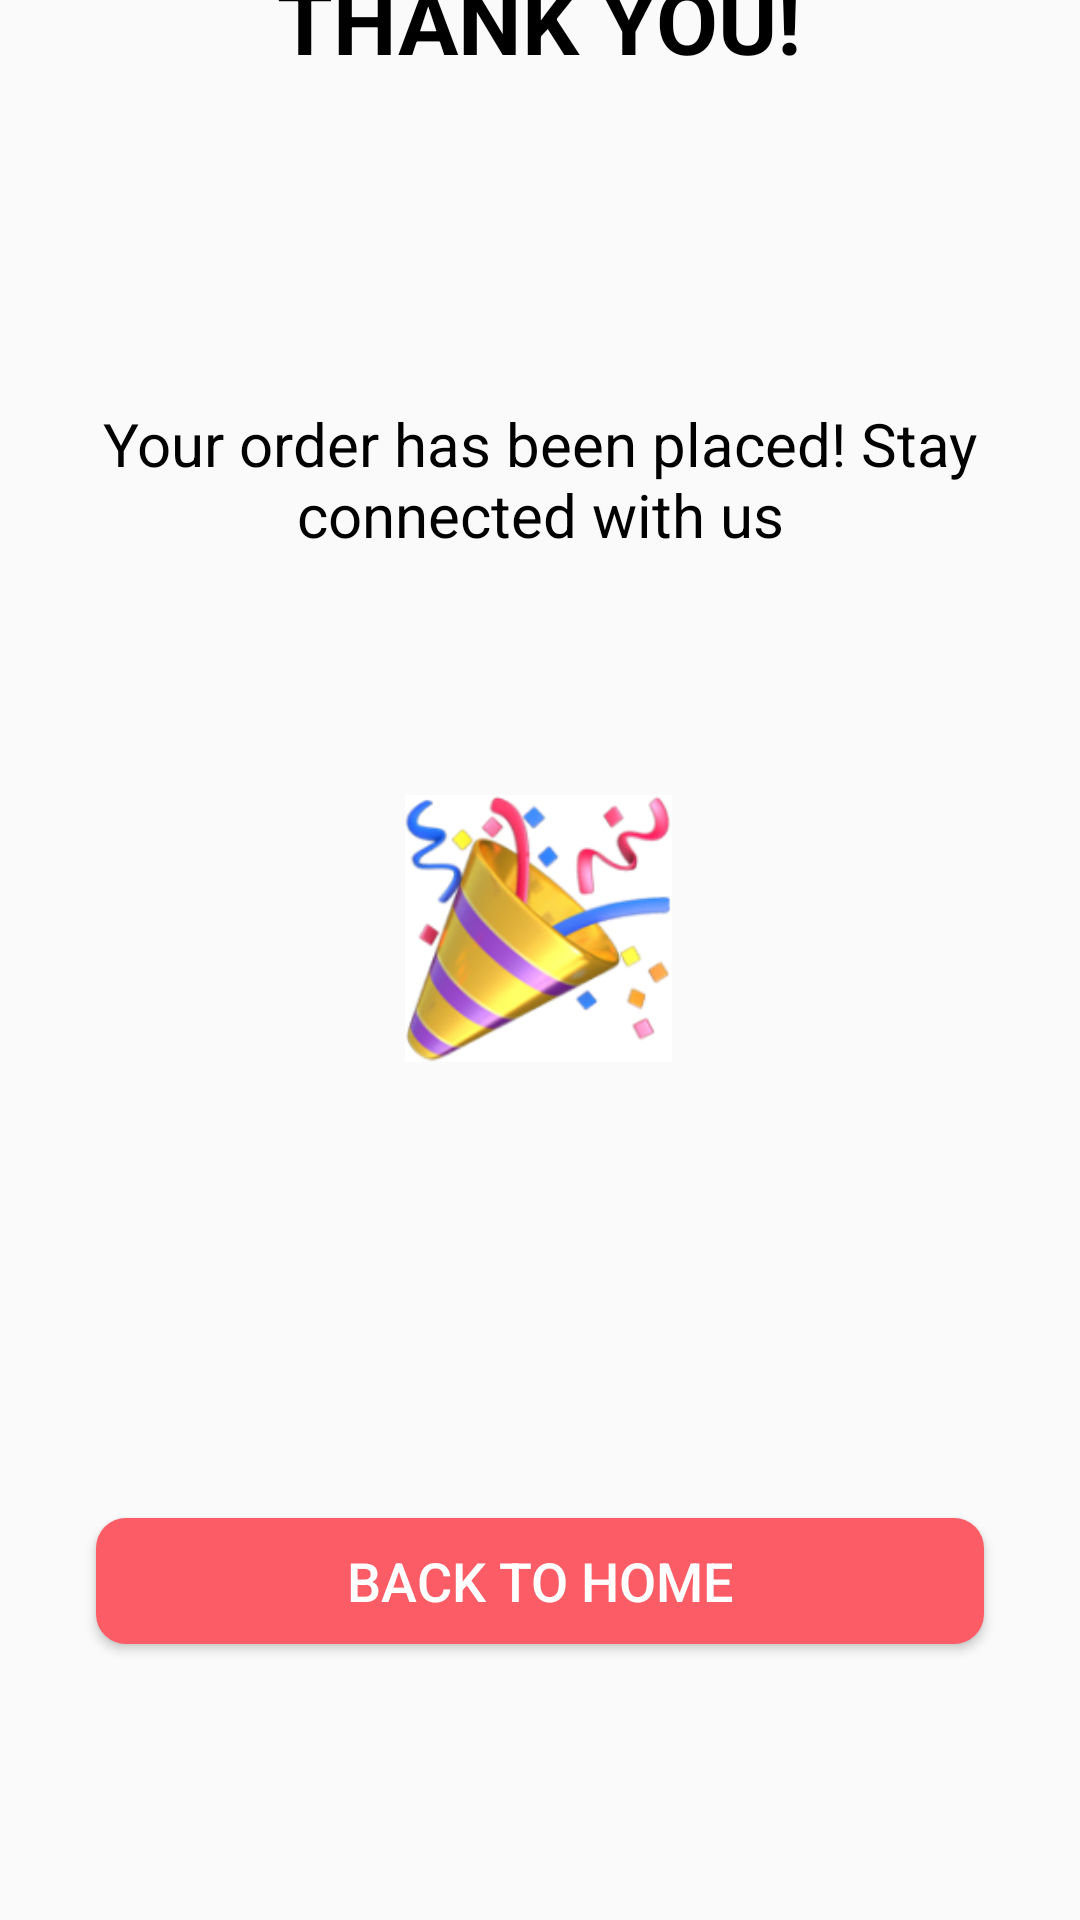

Locate icon controls on the screen. Image size 1080 × 1920, boxes as bbox=[x1, y1, x2, y2].
cong: bbox=[406, 797, 670, 1061]
